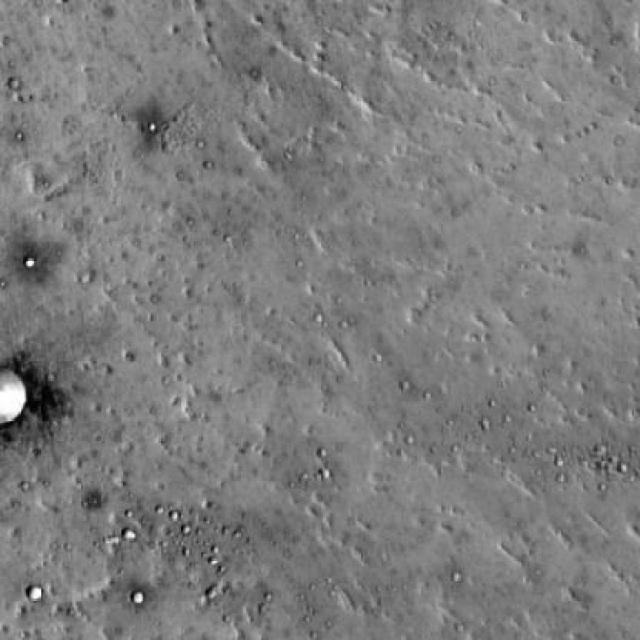crater: (0, 369, 29, 420)
